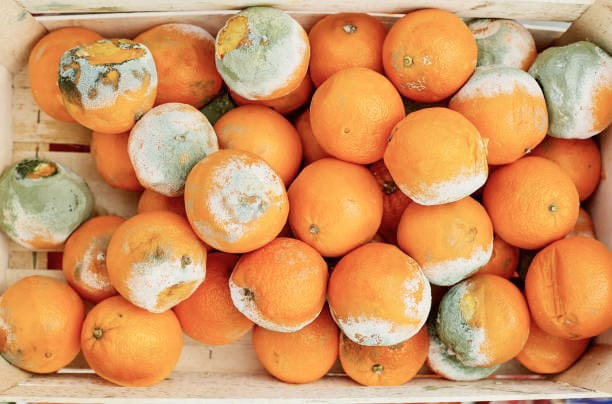Defected Orange: (375, 110, 494, 208), (0, 146, 100, 258), (182, 152, 291, 250), (337, 245, 433, 344), (58, 34, 154, 131), (111, 213, 205, 309), (213, 5, 310, 96), (435, 276, 531, 367), (524, 42, 612, 138), (130, 104, 213, 189)
Good Orange: (288, 157, 385, 245), (84, 314, 175, 381)
